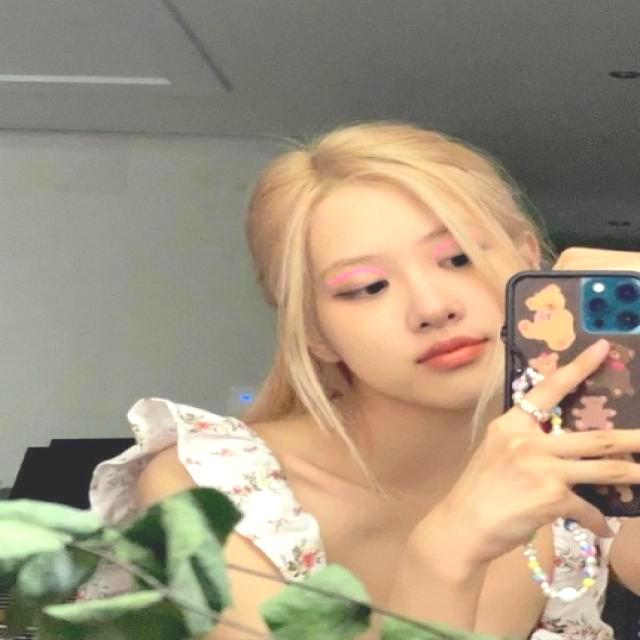lens: (581, 276, 640, 333)
phone: (499, 265, 640, 520)
